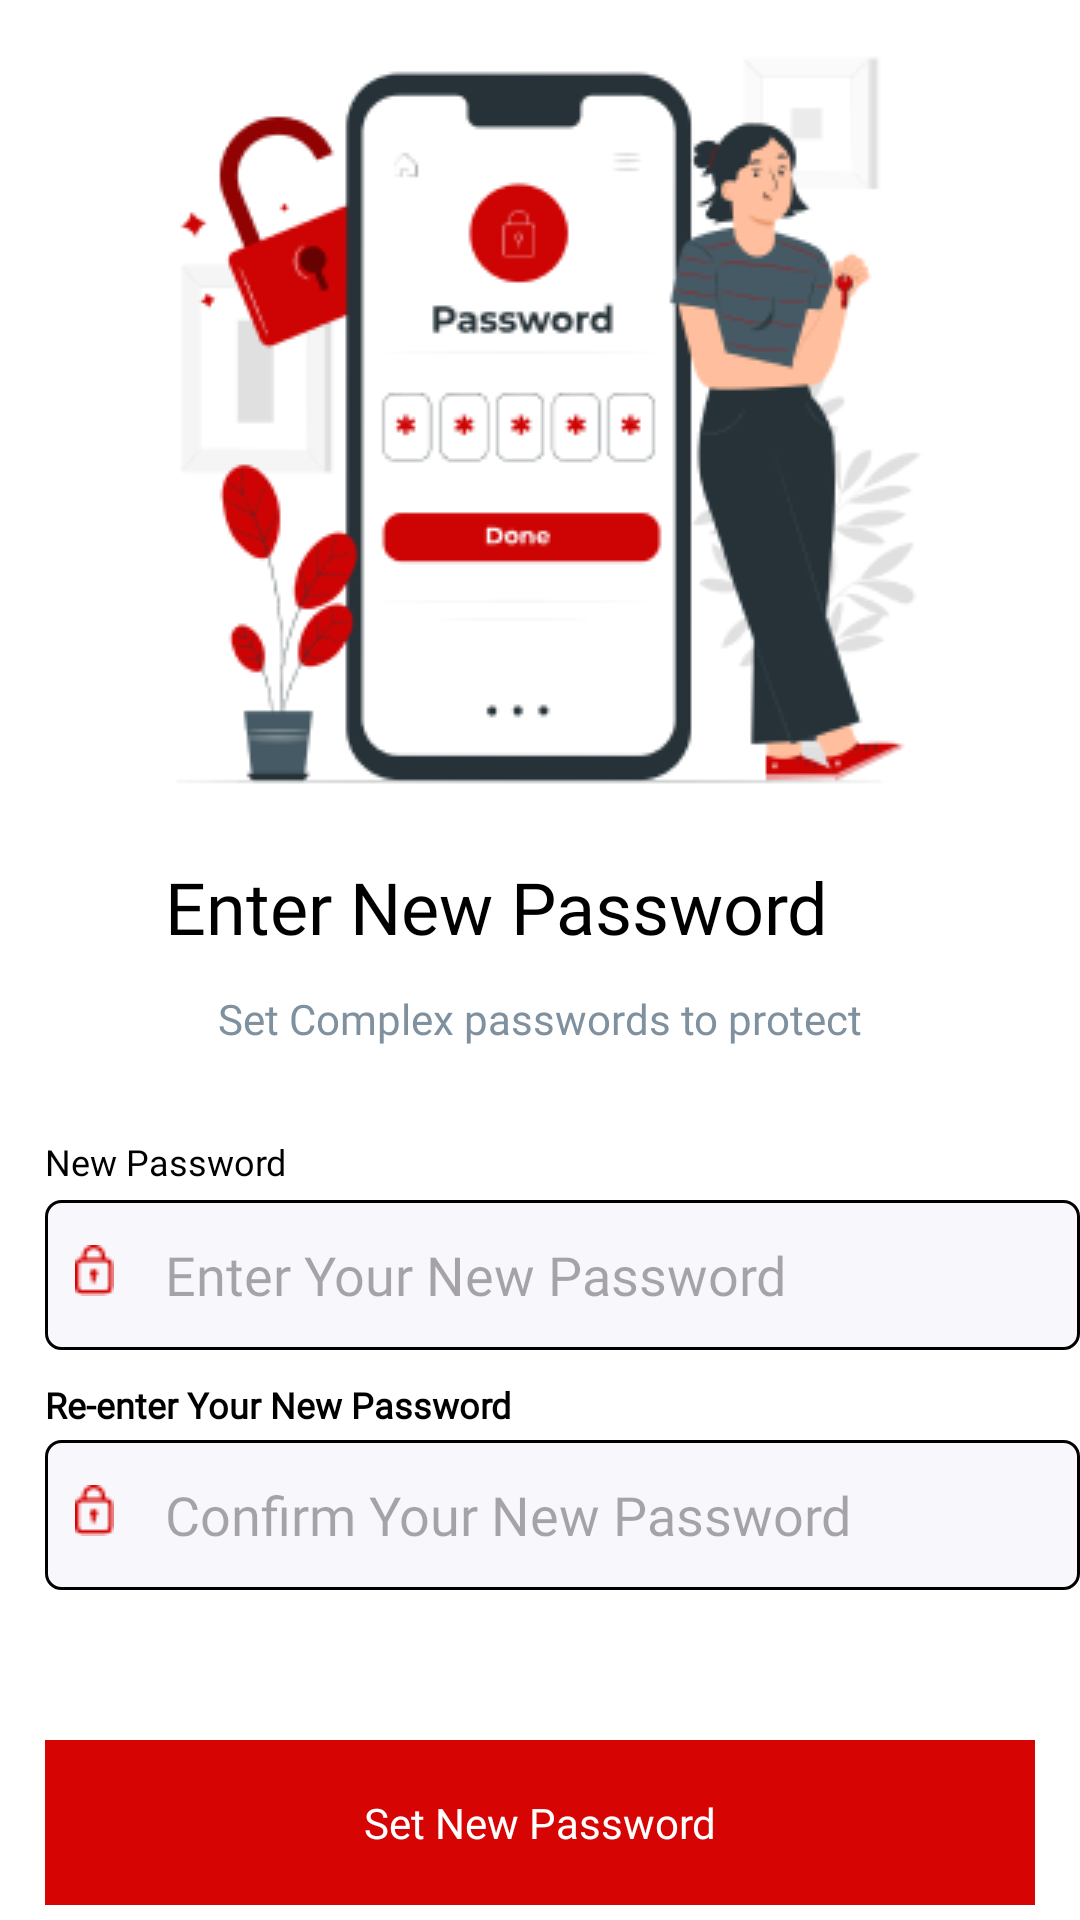

Icon click points for this 1080 x 1920 phone screenshot, format [x,y]:
gembok: [94,1270], [94,1510]
